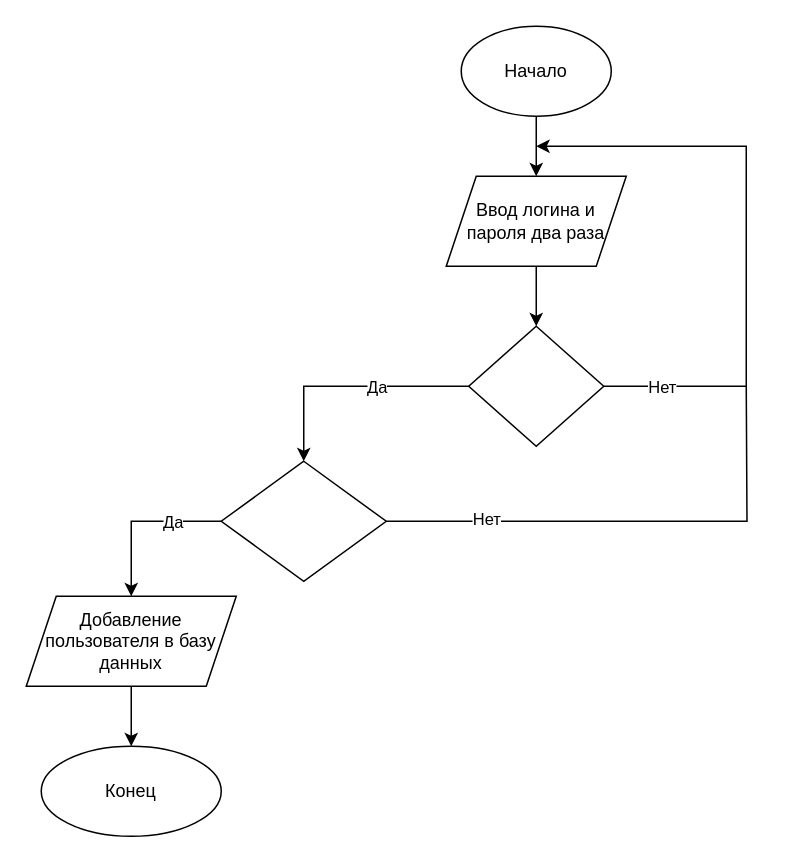
Image size: 785x863. Some labels were removed from this diagram. The centre of each missing label's shape, as x and y in pixels:
Логин свободен?: pixel 535 385
Пароли совпадают?: pixel 303 520
